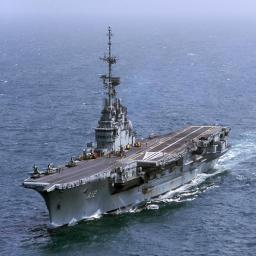Portanaves: (20, 24, 234, 232)
